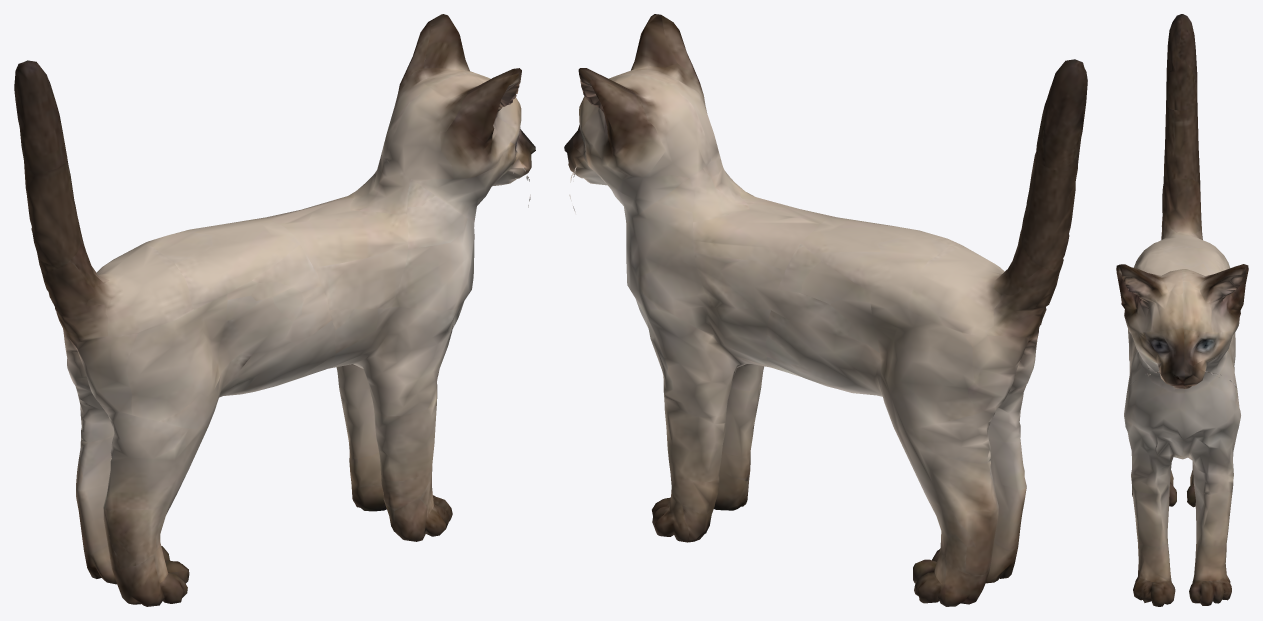
Rendered from CUPSEYCAT-lo.glb.
3 views of the same model, side by side, from view 1: azimuth 30°, elevation 25°; view 2: azimuth 150°, elevation 25°; view 3: azimuth 270°, elevation 25° (orthographic). The views are drawn at different scales.
Parts seen in each view (by area): view 1: tripo_node_4721d3dc-c05e-4b0d-b3ea-372cea5e1fcc; view 2: tripo_node_4721d3dc-c05e-4b0d-b3ea-372cea5e1fcc; view 3: tripo_node_4721d3dc-c05e-4b0d-b3ea-372cea5e1fcc.
Boxes of the visible parts, <box> form: tripo_node_4721d3dc-c05e-4b0d-b3ea-372cea5e1fcc: <box>14,14,535,606</box>; tripo_node_4721d3dc-c05e-4b0d-b3ea-372cea5e1fcc: <box>564,14,1087,606</box>; tripo_node_4721d3dc-c05e-4b0d-b3ea-372cea5e1fcc: <box>1116,14,1248,606</box>.
Bounding box in the file's own units: 0.9799 × 0.9994 × 0.2734.
1 material, 1 textured.
